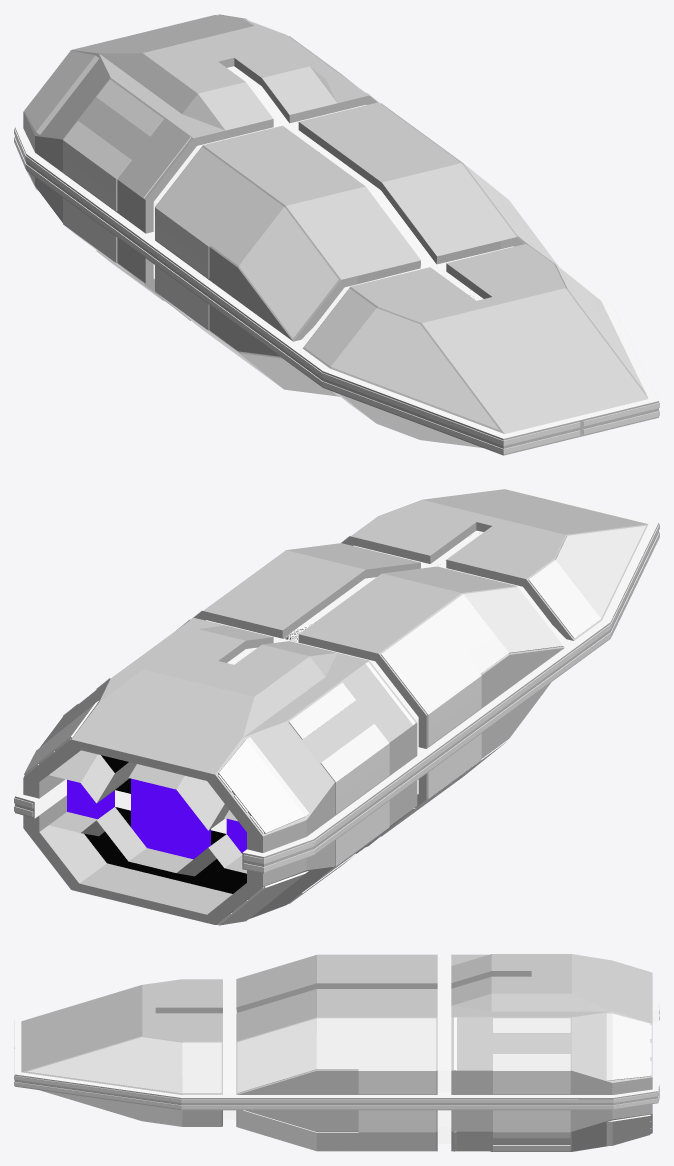
The model's file is 5-Aquamarine.glb.
3 views of the same model, one above another, from view 1: azimuth 30°, elevation 25°; view 2: azimuth 150°, elevation 25°; view 3: azimuth 270°, elevation 25° (orthographic). The views are drawn at different scales.
Parts seen in each view (by area): view 1: Aquamarine-Core-B.001, Aquamarine-Bow-B, Core.015, Core.014, Aquamarine-Core-P.001, Aquamarine-Bow-P.001, Aquamarine-Bow-M.001, Aquamarine-Stern-M.001, Aquamarine-Core-M.001; view 2: Core.014, Aquamarine-Core-B.001, Aquamarine-Stern-M.001, Core.015, Aquamarine-Bow-B, Aquamarine-Core-P.001, Aquamarine-Bow-P.001, Aquamarine-Bow-M.001, Aquamarine-Core-M.001; view 3: Aquamarine-Core-B.001, Core.015, Aquamarine-Bow-B, Core.014, Aquamarine-Core-P.001, Aquamarine-Stern-M.001, Aquamarine-Bow-P.001, Aquamarine-Bow-M.001, Aquamarine-Core-M.001.
Part boxes in pixels (box(x1,y1,x2,y2)): Aquamarine-Core-B.001: box(141, 102, 576, 396); Aquamarine-Bow-B: box(288, 244, 659, 455); Core.015: box(14, 18, 373, 305); Core.014: box(24, 14, 380, 320); Aquamarine-Core-P.001: box(156, 103, 558, 396); Aquamarine-Bow-P.001: box(303, 245, 647, 447); Aquamarine-Bow-M.001: box(333, 250, 645, 446); Aquamarine-Stern-M.001: box(23, 15, 368, 282); Aquamarine-Core-M.001: box(256, 107, 513, 392); Core.014: box(24, 619, 415, 925); Aquamarine-Core-B.001: box(192, 543, 578, 836); Aquamarine-Stern-M.001: box(23, 618, 417, 924); Core.015: box(14, 618, 430, 918); Aquamarine-Bow-B: box(341, 484, 659, 662); Aquamarine-Core-P.001: box(203, 543, 563, 833); Aquamarine-Bow-P.001: box(342, 490, 646, 640); Aquamarine-Bow-M.001: box(366, 500, 635, 618); Aquamarine-Core-M.001: box(226, 547, 564, 678); Aquamarine-Core-B.001: box(229, 954, 445, 1151); Core.015: box(444, 954, 659, 1151); Aquamarine-Bow-B: box(14, 979, 230, 1126); Core.014: box(451, 954, 652, 1151); Aquamarine-Core-P.001: box(229, 954, 444, 1151); Aquamarine-Stern-M.001: box(444, 955, 652, 1143); Aquamarine-Bow-P.001: box(27, 979, 229, 1126); Aquamarine-Bow-M.001: box(62, 1030, 222, 1126); Aquamarine-Core-M.001: box(230, 955, 315, 1150).
Bounding box in the file's own units: 0.3851 × 0.2766 × 1.02.
